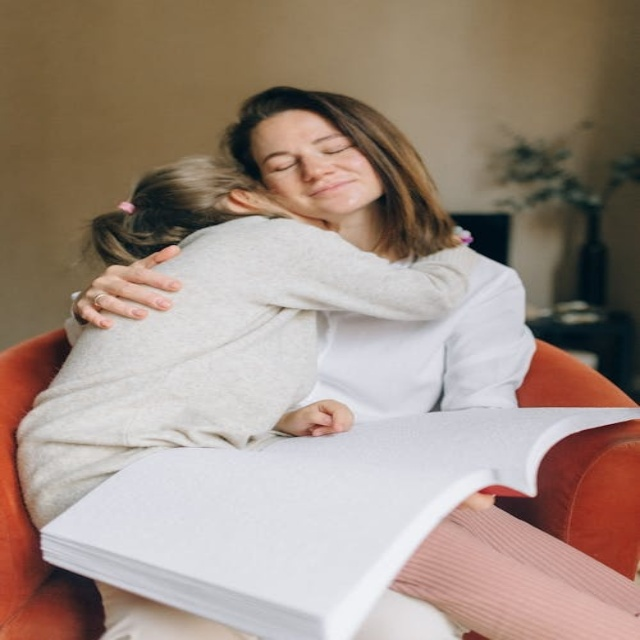Sin_gafas: (259, 135, 357, 174)
Sin_guantes: (73, 242, 186, 328), (275, 399, 355, 438)
Sin_mascara: (300, 177, 371, 207)
